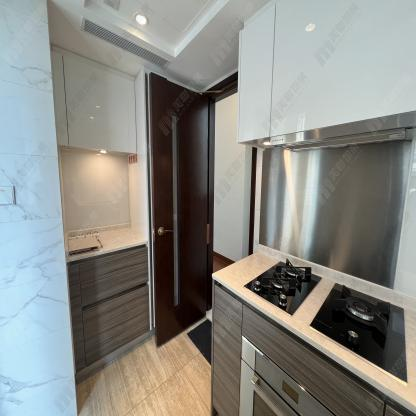Cupboard: (235, 0, 416, 142), (66, 245, 154, 378), (49, 49, 138, 154)
Exhaust Hood: (268, 110, 416, 153)
Fridge: (309, 282, 407, 386), (243, 258, 322, 317)
Oven: (239, 303, 385, 416)
